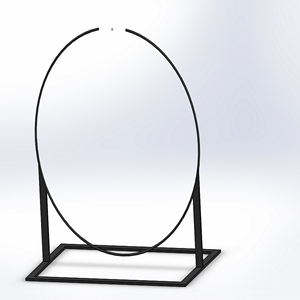circle: (24, 26, 224, 287)
